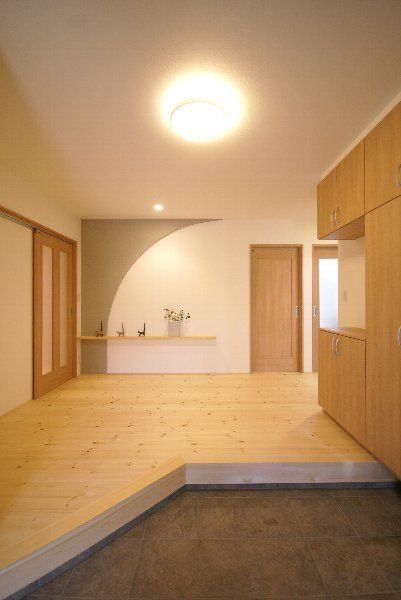floor: (20, 487, 400, 599)
